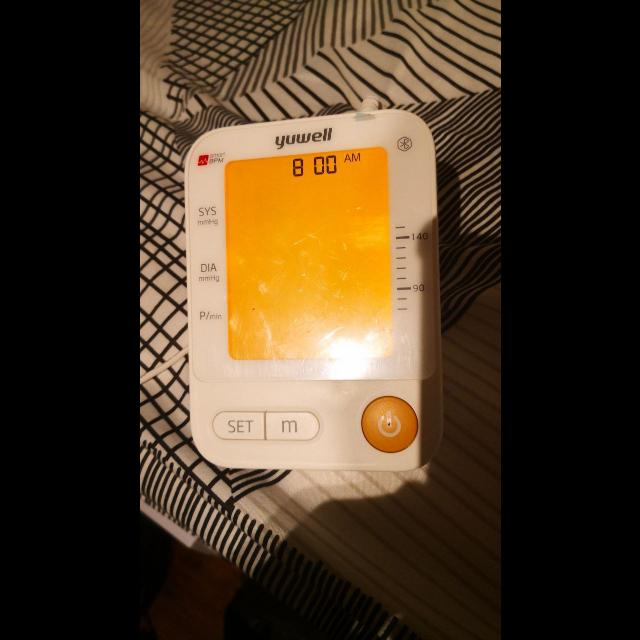Blood-Pressure-Monitor: (184, 110, 438, 472)
